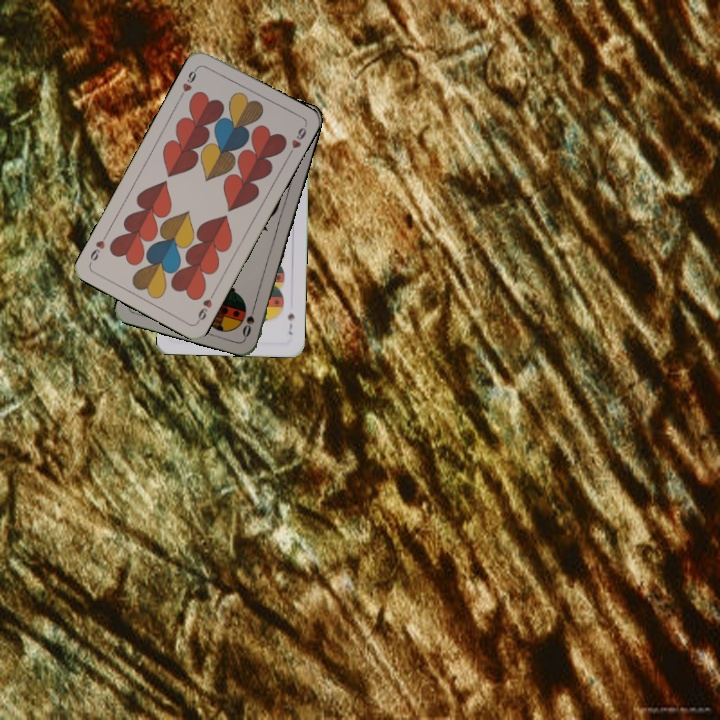H9: (193, 287, 218, 325), (176, 63, 200, 101)
S7: (284, 309, 297, 337)
SO: (238, 300, 258, 340)
